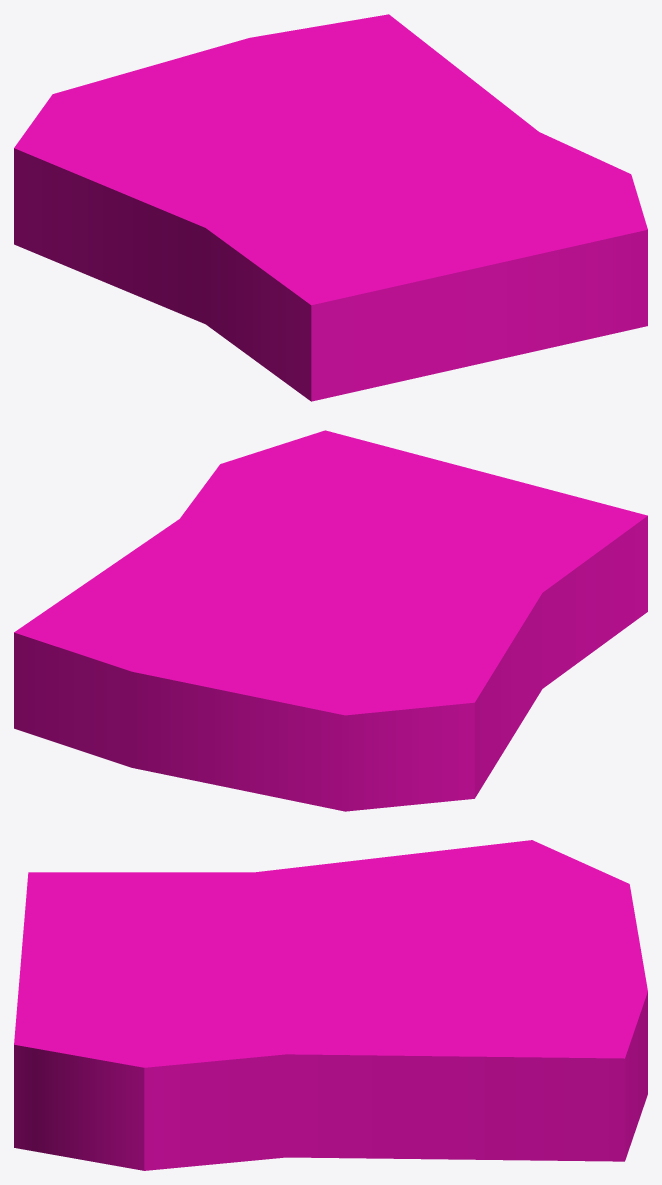
The model's file is study_magazine_pile_3_meshCollider.fbx.
3 views of the same model, one above another, from view 1: azimuth 30°, elevation 25°; view 2: azimuth 150°, elevation 25°; view 3: azimuth 270°, elevation 25° (orthographic). The views are drawn at different scales.
Parts seen in each view (by area): view 1: study_magazine_pile_3_meshCollider; view 2: study_magazine_pile_3_meshCollider; view 3: study_magazine_pile_3_meshCollider.
Part boxes in pixels (x1=…): study_magazine_pile_3_meshCollider: x1=14, y1=14, x2=647, y2=401; study_magazine_pile_3_meshCollider: x1=14, y1=430, x2=647, y2=811; study_magazine_pile_3_meshCollider: x1=14, y1=840, x2=647, y2=1170.
Size of the model in its own units: 20.83 by 4.4 by 24.5.
